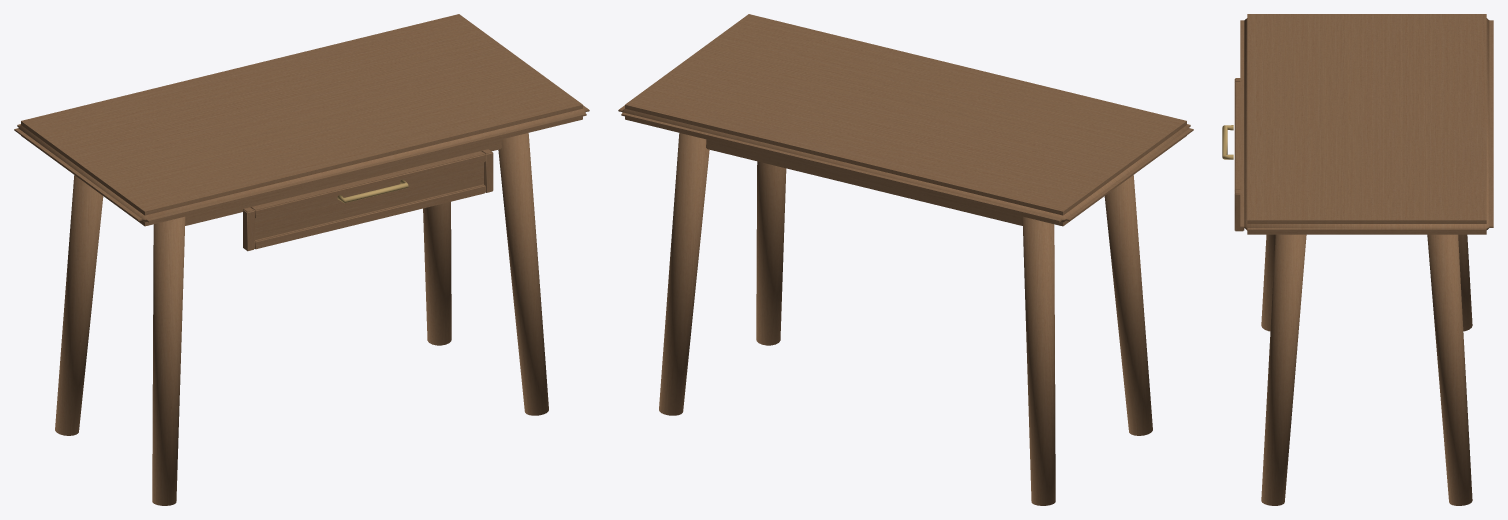
Rendered from traditional.desk.gltf.
3 renders of one model, left to right at view 1: azimuth 30°, elevation 25°; view 2: azimuth 150°, elevation 25°; view 3: azimuth 270°, elevation 25°, orthographic. The views are drawn at different scales.
Parts seen in each view (by area): view 1: traditional.desk.rounded-top; view 2: traditional.desk.rounded-top; view 3: traditional.desk.rounded-top.
Boxes of the visible parts, left/top/right/bottom form: traditional.desk.rounded-top: left=14, top=14, right=589, bottom=505; traditional.desk.rounded-top: left=618, top=14, right=1193, bottom=505; traditional.desk.rounded-top: left=1222, top=14, right=1493, bottom=505.
Bounding box in the file's own units: 1.15 × 0.7523 × 0.621.
Materials: 2 (1 with a texture image).
